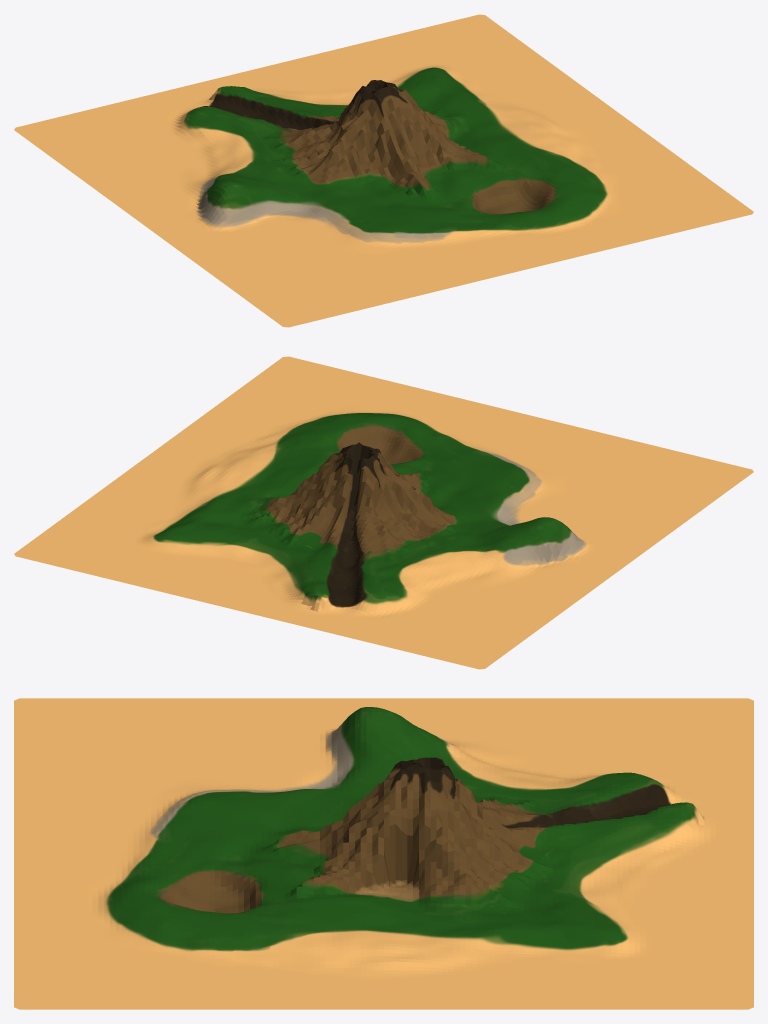
Rendered from isla.fbx.
3 views of the same model, one above another, from view 1: azimuth 30°, elevation 25°; view 2: azimuth 150°, elevation 25°; view 3: azimuth 270°, elevation 25° (orthographic). The views are drawn at different scales.
Parts seen in each view (by area): view 1: Plane.003; view 2: Plane.003; view 3: Plane.003.
Boxes of the visible parts, <box> form: Plane.003: <box>14,14,753,327</box>; Plane.003: <box>14,356,753,669</box>; Plane.003: <box>14,698,753,1009</box>.
Bounding box in the file's own units: 29882 × 5249 × 30000.
